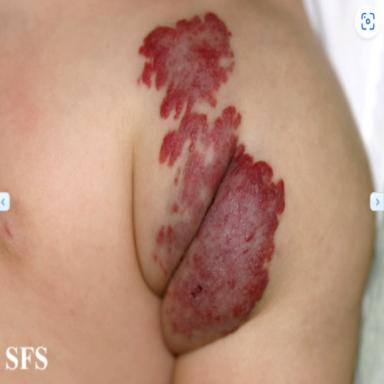Hemangiome: (139, 13, 234, 118), (160, 113, 207, 166)
